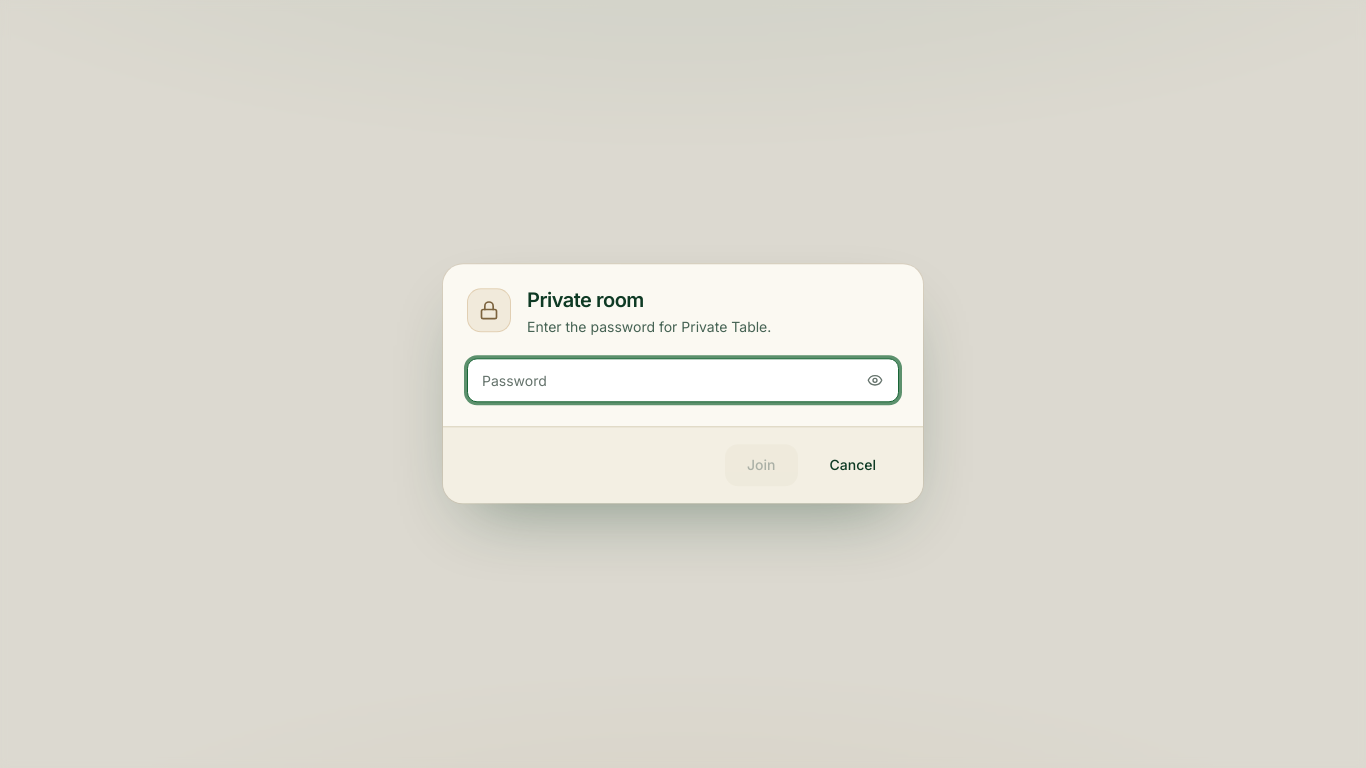
PasswordPromptDialog › disables submit until a password is entered
This screenshot has width=1366, height=768.
Expected: the button with test id "password-prompt-submit" is disabled, [724,444,798,488]
Type "secret" into the password field with test id "password-prompt-input" at (683, 381), box [467,359,899,403]
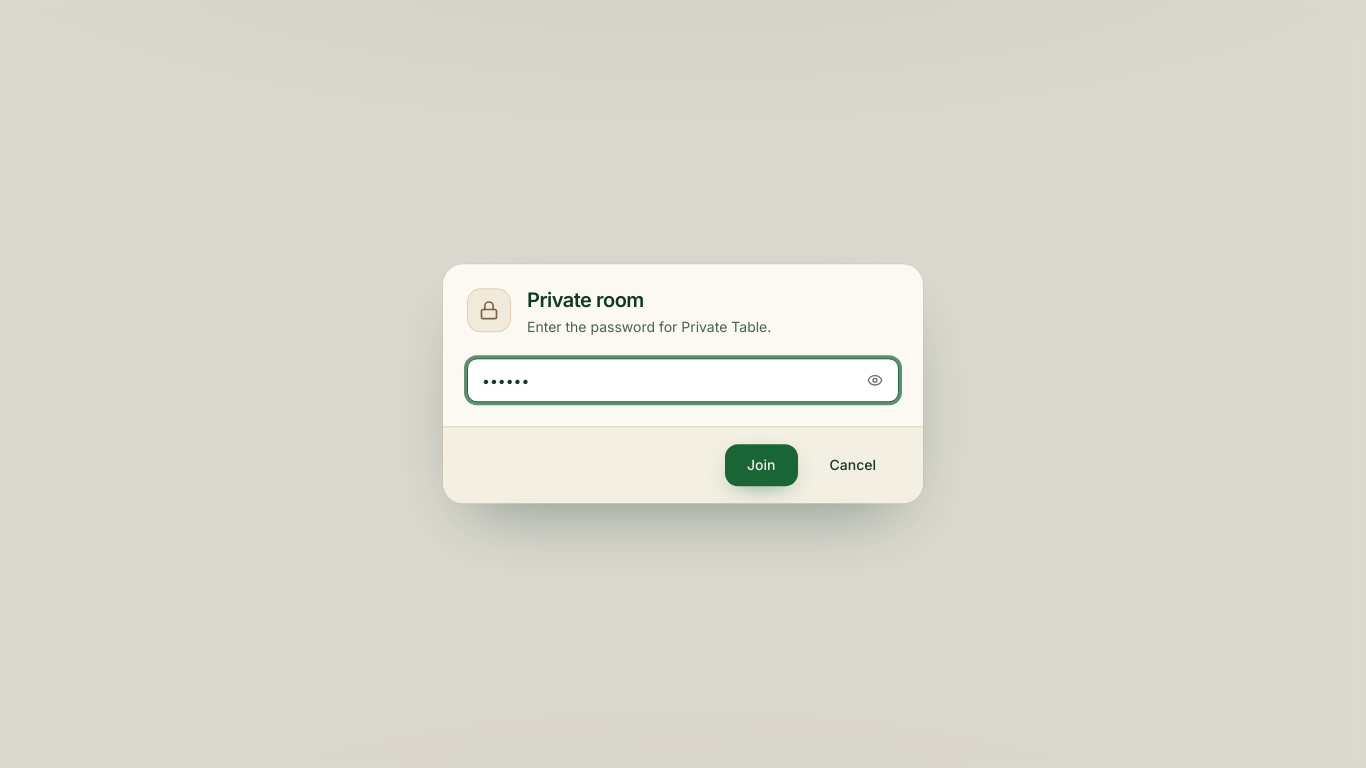
Expected: the button with test id "password-prompt-submit" is enabled, [724,444,798,488]
